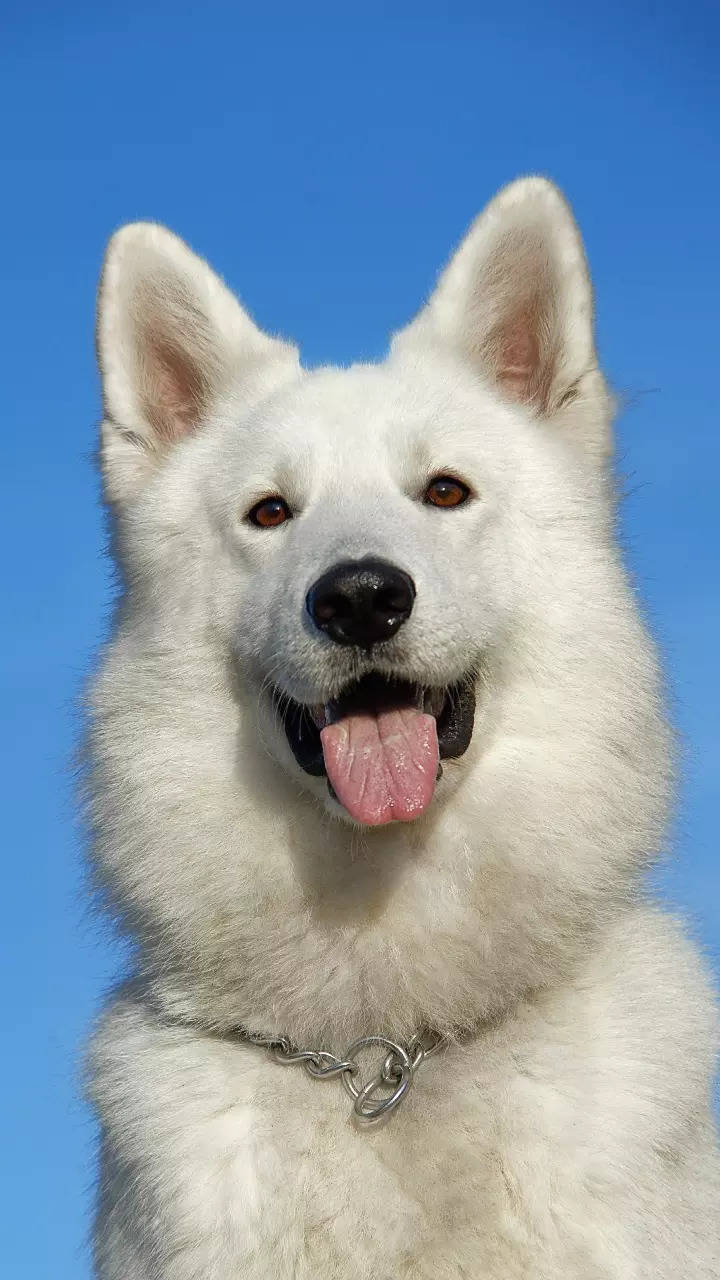dog: (30, 178, 653, 970)
